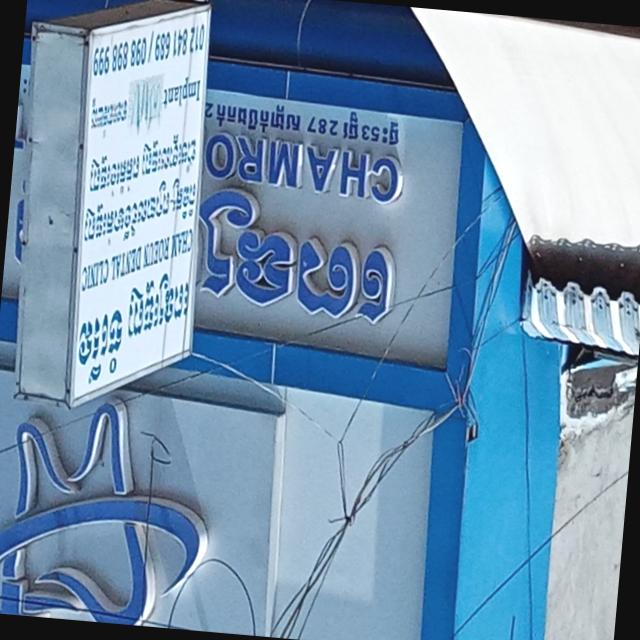1: (60, 114, 218, 210)
159: (202, 85, 417, 156)
Yolov11kh: (191, 174, 404, 347), (71, 164, 207, 253), (125, 257, 191, 363), (72, 297, 126, 398)
